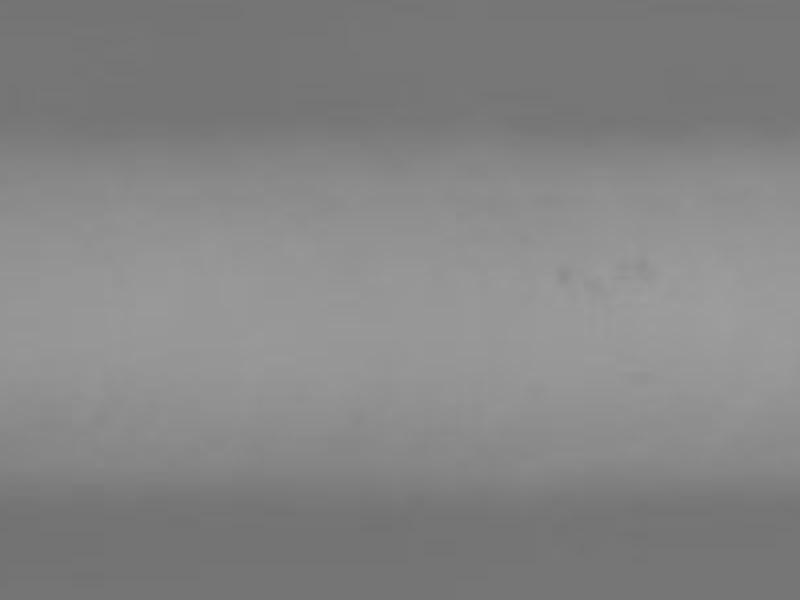defect: (552, 262, 573, 287)
